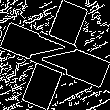N_E: (24, 27, 86, 83)
